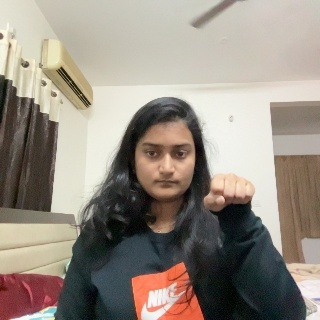Face: (134, 108, 197, 208)
Yes: (206, 169, 257, 251)
